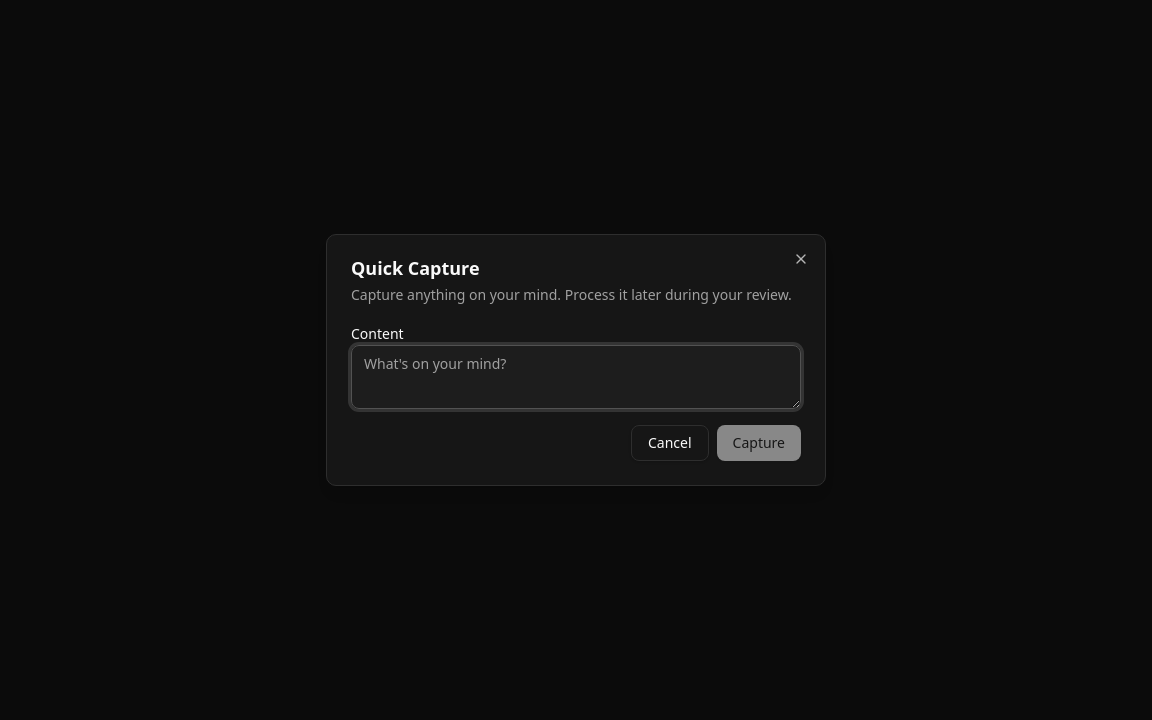
Test case: UniversalCapture › error handling › shows generic error message when error is not an Error instance
Type "Test thought" into the text box with placeholder "What's on your mind?" at coordinates (576, 377), box [351, 345, 801, 409]
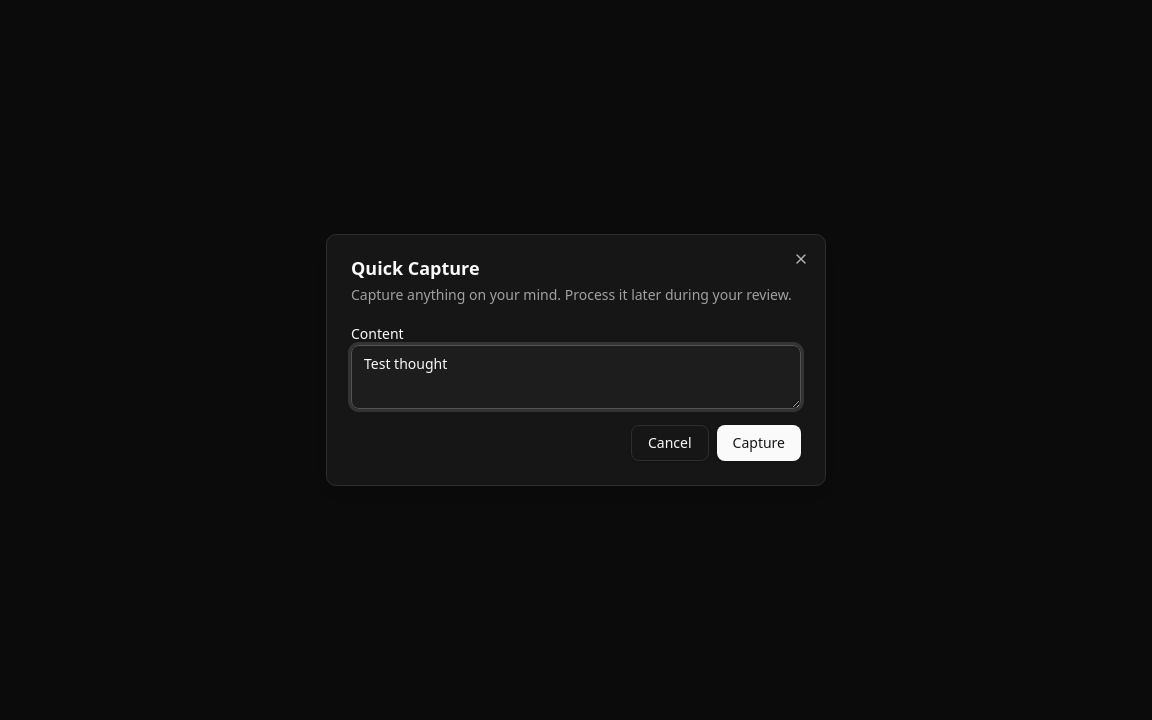
Click the button "Capture" at coordinates (759, 443), box [717, 425, 801, 461]
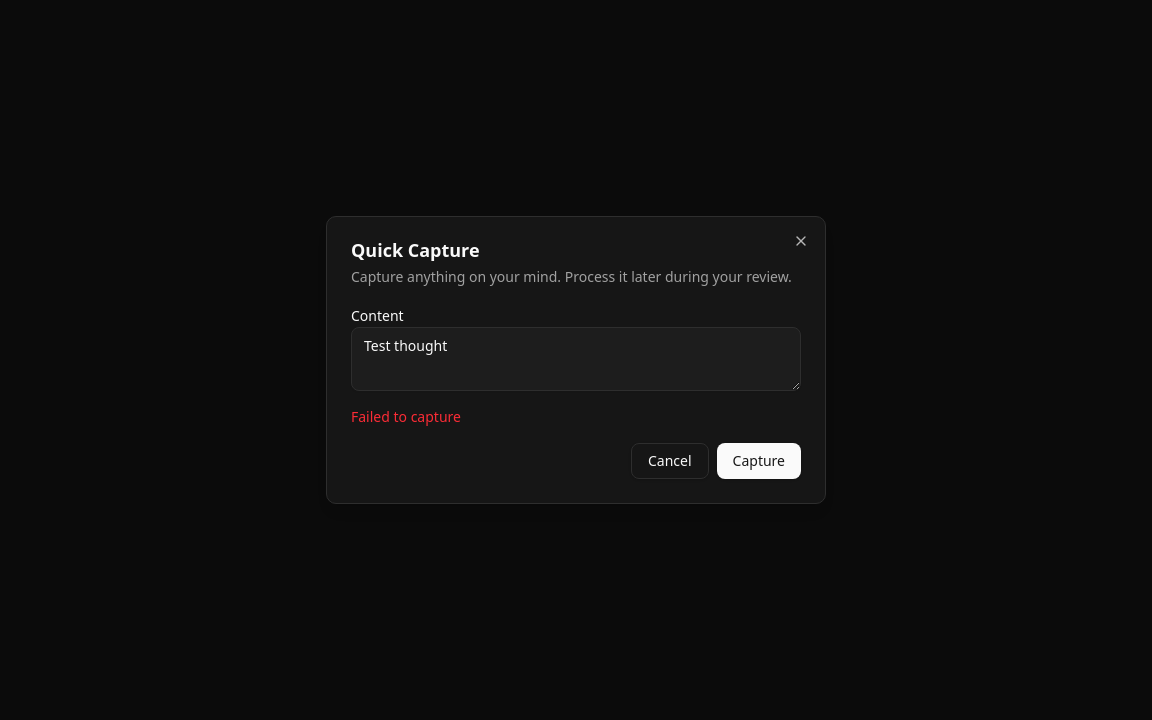
Check: the text "Failed to capture" is shown, box [351, 407, 461, 426]
